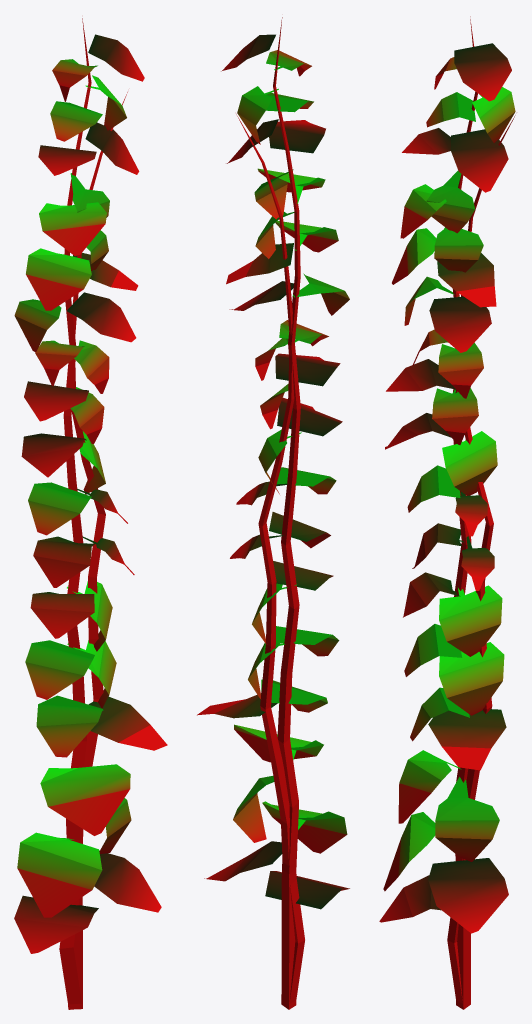
The model's file is Lierre7_LOD0.fbx.
The picture shows the model from 3 angles, left to right: view 1: azimuth 30°, elevation 25°; view 2: azimuth 210°, elevation 25°; view 3: azimuth 330°, elevation 25°; orthographic projection.
Visible parts, largest first — view 1: _9636_Var9_LOD1; view 2: _9636_Var9_LOD1; view 3: _9636_Var9_LOD1.
Part boxes in pixels (x1,y1,x2,y2): _9636_Var9_LOD1: (14, 18, 167, 1009); _9636_Var9_LOD1: (197, 17, 349, 1009); _9636_Var9_LOD1: (379, 16, 515, 1009).
Bounding box in the file's own units: 11.38 × 90.73 × 9.46.
